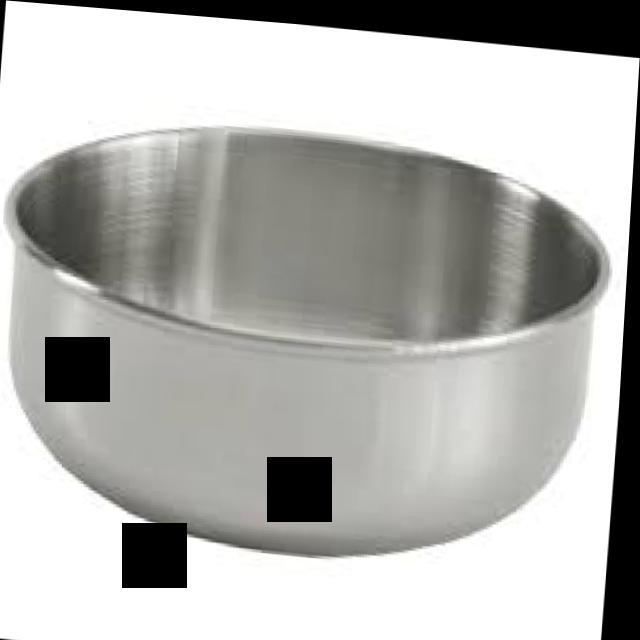Sponge Bowl: (0, 90, 630, 576)
